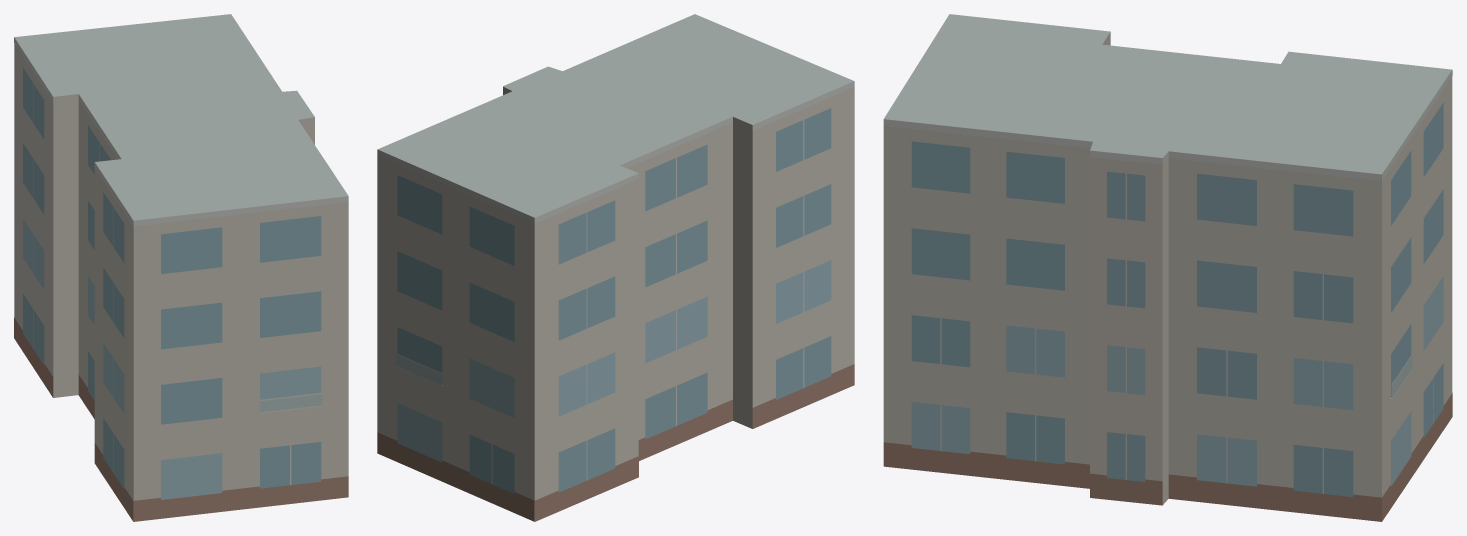
File: survey-upis-33020248.glb
The picture shows the model from 3 angles, left to right: view 1: azimuth 30°, elevation 25°; view 2: azimuth 150°, elevation 25°; view 3: azimuth 270°, elevation 25°; orthographic projection. The views are drawn at different scales.
Parts seen in each view (by area): view 1: survey-upis-33020248.tmp; view 2: survey-upis-33020248.tmp; view 3: survey-upis-33020248.tmp.
Part boxes in pixels (bbox=[...]): survey-upis-33020248.tmp: bbox=[14, 14, 348, 521]; survey-upis-33020248.tmp: bbox=[377, 14, 854, 521]; survey-upis-33020248.tmp: bbox=[883, 14, 1452, 521].
Size of the model in its own units: 12.69 by 12.8 by 19.01.
